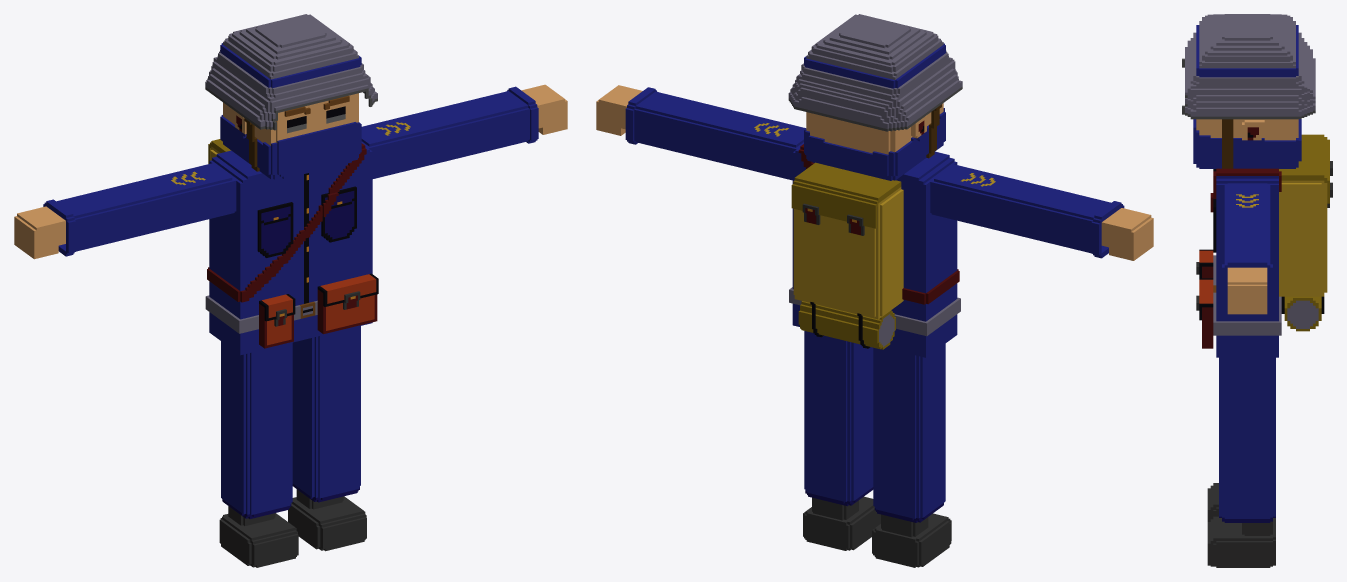
File: Т-поза-0.obj
3 renders of one model, left to right at view 1: azimuth 30°, elevation 25°; view 2: azimuth 150°, elevation 25°; view 3: azimuth 270°, elevation 25°, orthographic.
Size of the model in its own units: 21.8 by 19.9 by 5.3.
1 material, 1 textured.
